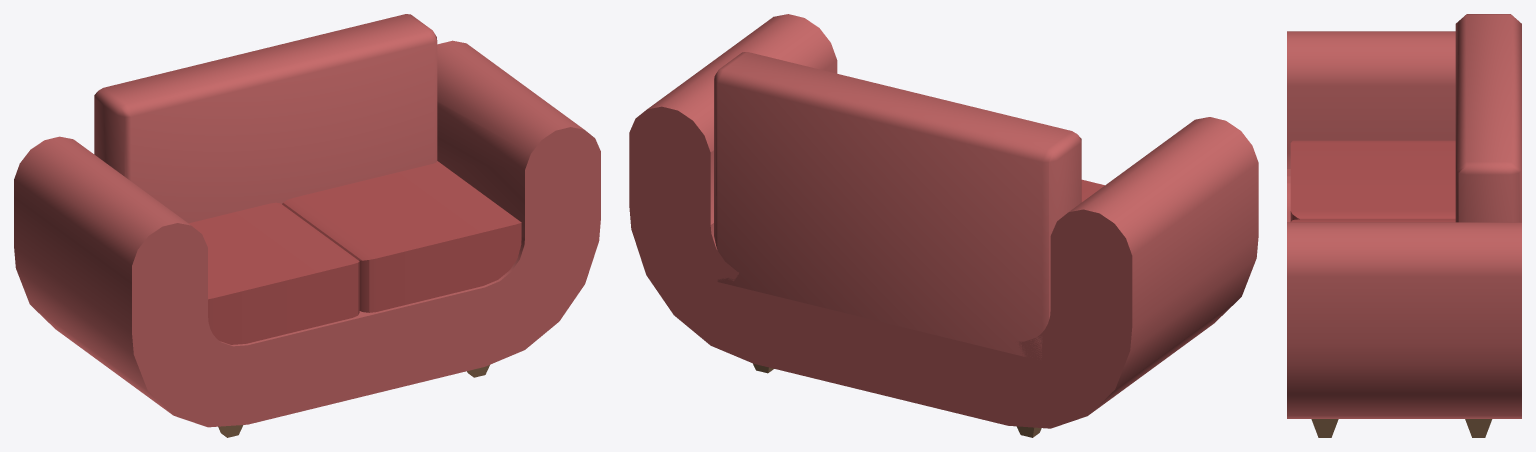
Rendered from Coach.fbx.
3 views of the same model, side by side, from view 1: azimuth 30°, elevation 25°; view 2: azimuth 150°, elevation 25°; view 3: azimuth 270°, elevation 25° (orthographic). The views are drawn at different scales.
Visible parts, largest first — view 1: Coach; view 2: Coach; view 3: Coach.
Boxes of the visible parts, left/top/right/bottom form: Coach: left=14, top=14, right=600, bottom=437; Coach: left=629, top=14, right=1258, bottom=437; Coach: left=1287, top=14, right=1521, bottom=437.
Bounding box in the file's own units: 122 × 71.14 × 53.2.
